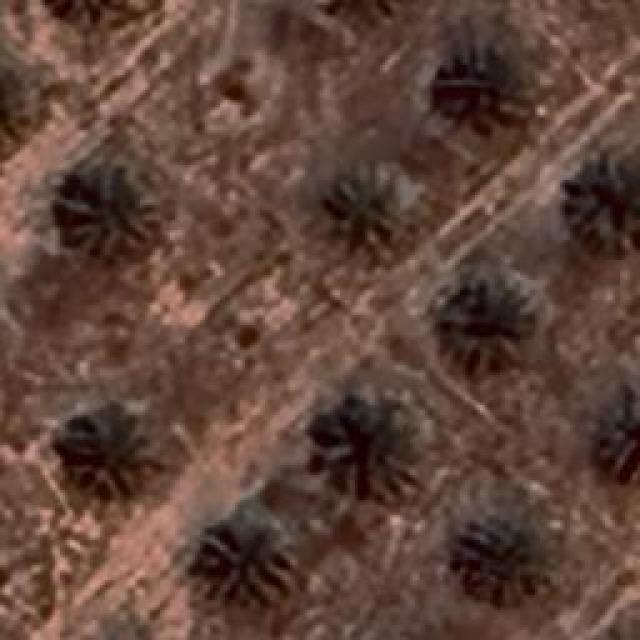PalmTree: (320, 394, 422, 498), (442, 288, 546, 390), (197, 500, 295, 600), (431, 41, 529, 141), (60, 167, 155, 255), (462, 520, 558, 605), (67, 407, 155, 495), (322, 162, 402, 250), (568, 157, 638, 255), (0, 65, 44, 153), (598, 390, 638, 480), (40, 0, 137, 35), (314, 0, 411, 35)
